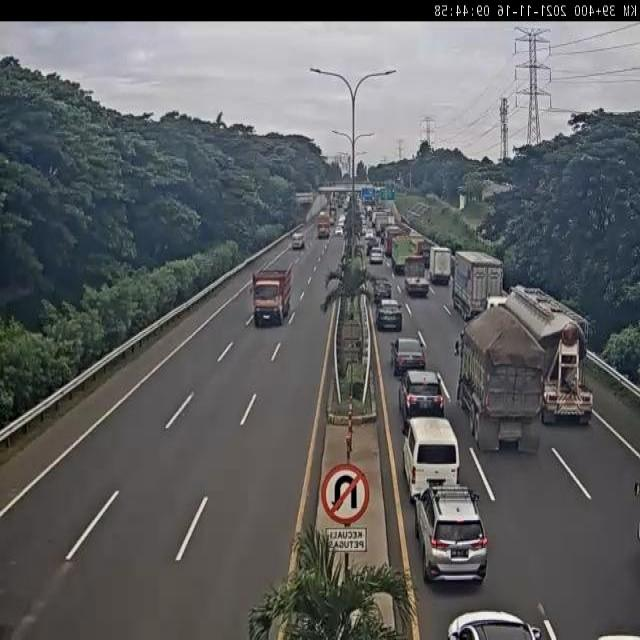Car: (415, 483, 488, 586), (445, 609, 547, 639), (397, 369, 445, 425), (392, 337, 426, 375), (375, 298, 404, 331), (369, 247, 384, 265), (292, 232, 304, 250), (335, 226, 343, 237)
Truck: (455, 306, 541, 455), (509, 284, 594, 428), (452, 252, 503, 318), (251, 263, 292, 327), (402, 253, 430, 298), (429, 245, 452, 281)
Van: (402, 416, 460, 502)
